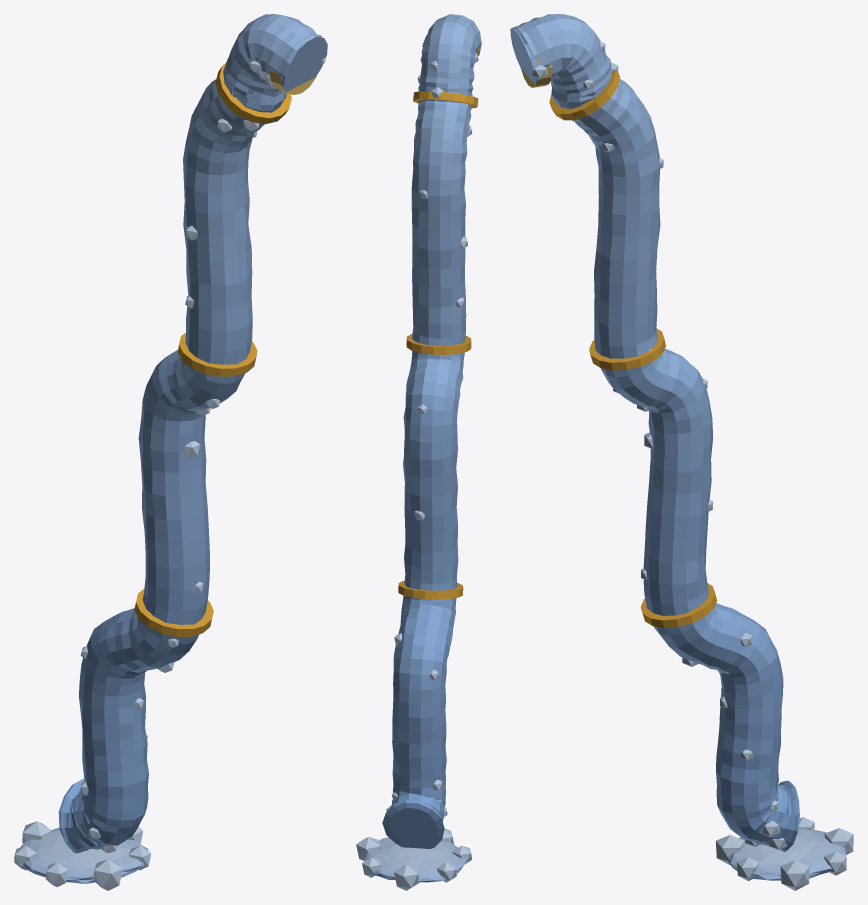
File: goo_drop_tube_goo_4@fairground.fbx
3 views of the same model, side by side, from view 1: azimuth 30°, elevation 25°; view 2: azimuth 150°, elevation 25°; view 3: azimuth 270°, elevation 25° (orthographic). The views are drawn at different scales.
Visible parts, largest first — view 1: goo_drop_tube_goo_4; view 2: goo_drop_tube_goo_4; view 3: goo_drop_tube_goo_4.
Boxes of the visible parts, <box> form: goo_drop_tube_goo_4: <box>14,14,327,890</box>; goo_drop_tube_goo_4: <box>356,14,481,890</box>; goo_drop_tube_goo_4: <box>510,14,853,890</box>.
Size of the model in its own units: 10.64 by 53.69 by 18.84.
